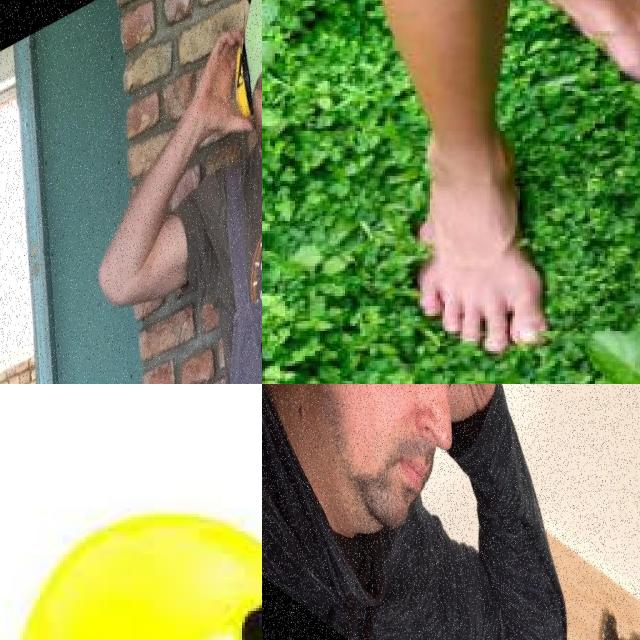Barefoots: (392, 107, 551, 384), (540, 0, 640, 104)
Ear-protection: (262, 384, 522, 610), (230, 33, 260, 131)
